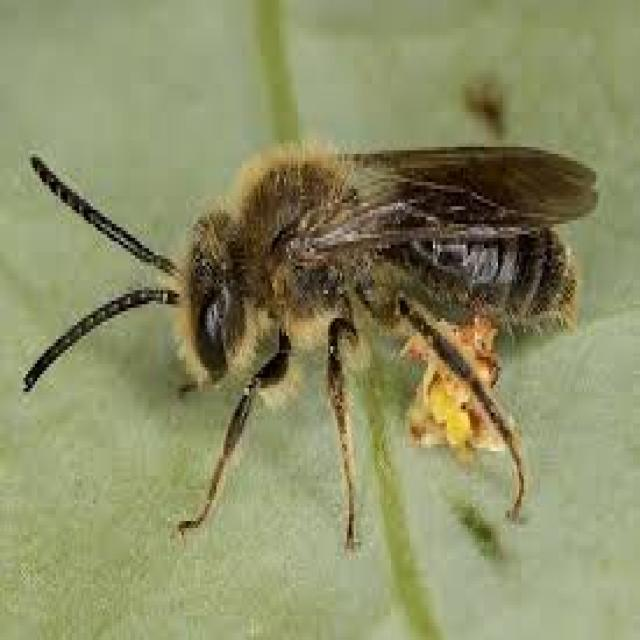Bees: (22, 148, 600, 554)
